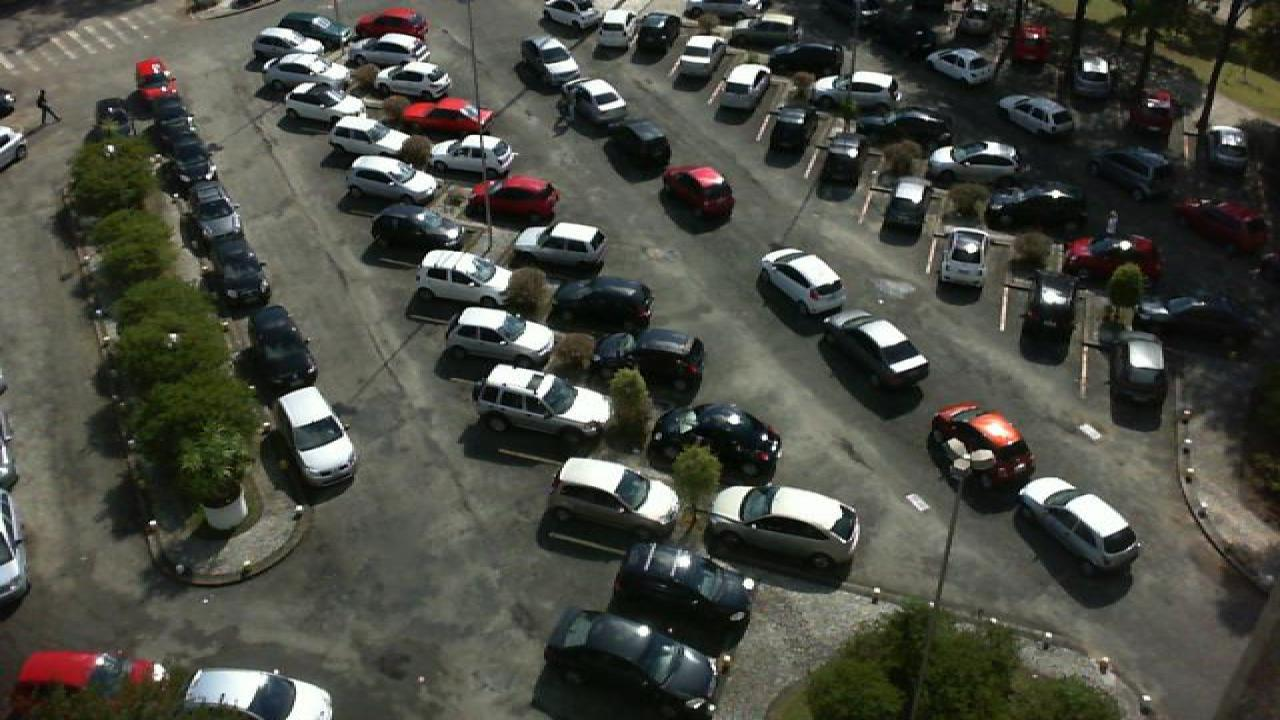Car: (542, 606, 718, 720), (702, 482, 864, 572), (614, 541, 758, 639), (1014, 474, 1142, 574), (648, 402, 784, 488), (548, 456, 682, 542), (470, 362, 612, 440), (926, 403, 1034, 493), (12, 648, 168, 708), (818, 312, 932, 392), (272, 384, 360, 487), (182, 666, 338, 720), (440, 306, 560, 366), (244, 304, 316, 394), (620, 328, 708, 400), (758, 246, 848, 314), (416, 248, 514, 306), (552, 279, 656, 330), (1096, 327, 1168, 396), (1140, 294, 1256, 336), (1088, 146, 1176, 200), (512, 219, 606, 269), (368, 204, 466, 250), (984, 188, 1086, 232), (1184, 199, 1270, 251), (1066, 235, 1164, 280), (348, 153, 440, 199), (598, 117, 672, 173), (464, 172, 560, 214), (662, 164, 736, 217), (1020, 276, 1078, 342), (932, 226, 992, 288), (994, 92, 1078, 136), (324, 116, 414, 157), (926, 139, 1018, 179), (556, 76, 628, 126), (854, 104, 952, 140), (282, 82, 372, 120), (402, 96, 494, 132), (258, 54, 350, 90), (208, 251, 270, 304), (882, 177, 938, 235), (432, 134, 516, 172), (822, 130, 880, 184), (520, 35, 580, 87), (926, 45, 1000, 85), (758, 42, 844, 76), (676, 40, 758, 74), (722, 11, 800, 46), (718, 66, 774, 114), (380, 61, 452, 98), (350, 33, 430, 66), (1206, 119, 1254, 172), (278, 10, 354, 43), (352, 7, 430, 39), (782, 81, 832, 129), (1124, 86, 1174, 132), (192, 208, 244, 252), (538, 0, 602, 35), (250, 30, 322, 61), (176, 173, 230, 214), (632, 12, 678, 57), (588, 10, 634, 54), (158, 120, 208, 158), (132, 57, 178, 98), (150, 90, 198, 129), (1070, 54, 1114, 94), (1016, 24, 1050, 64)
